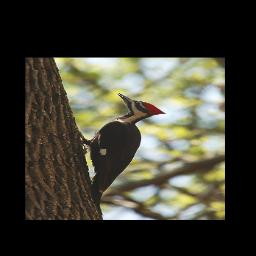Woodpecker: (67, 93, 166, 216)
